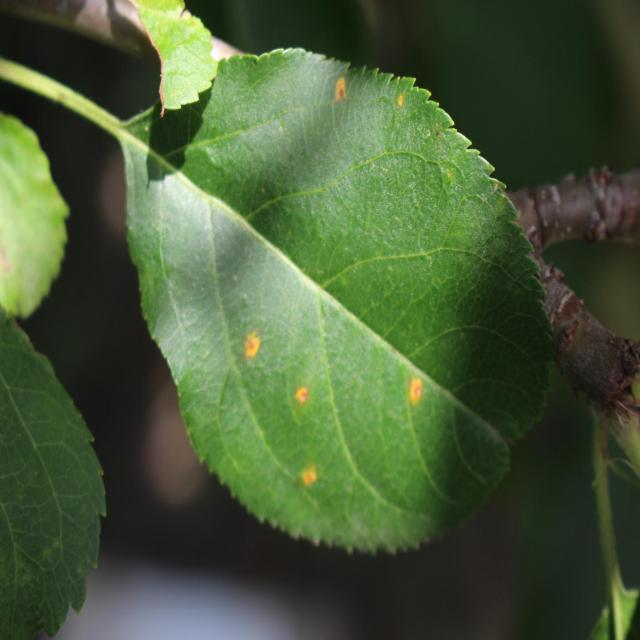Rust: (387, 360, 436, 418), (278, 375, 323, 422), (236, 310, 268, 366), (293, 465, 331, 504), (323, 69, 355, 108), (390, 88, 413, 119)
